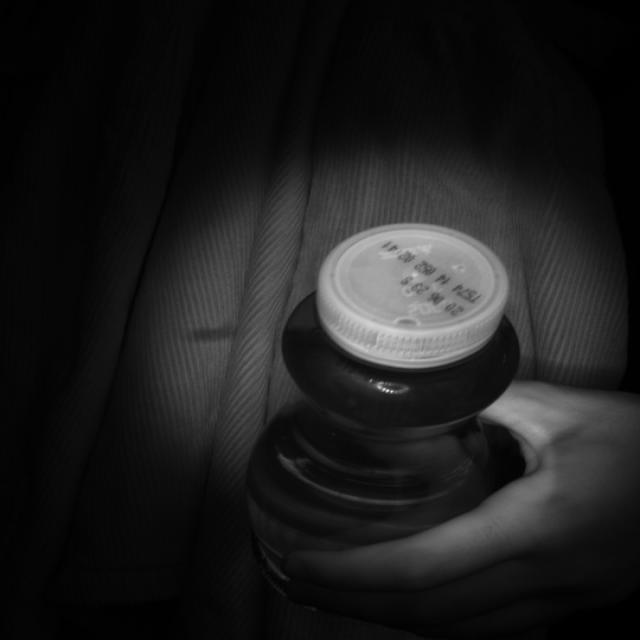Good: (317, 222, 510, 369)
